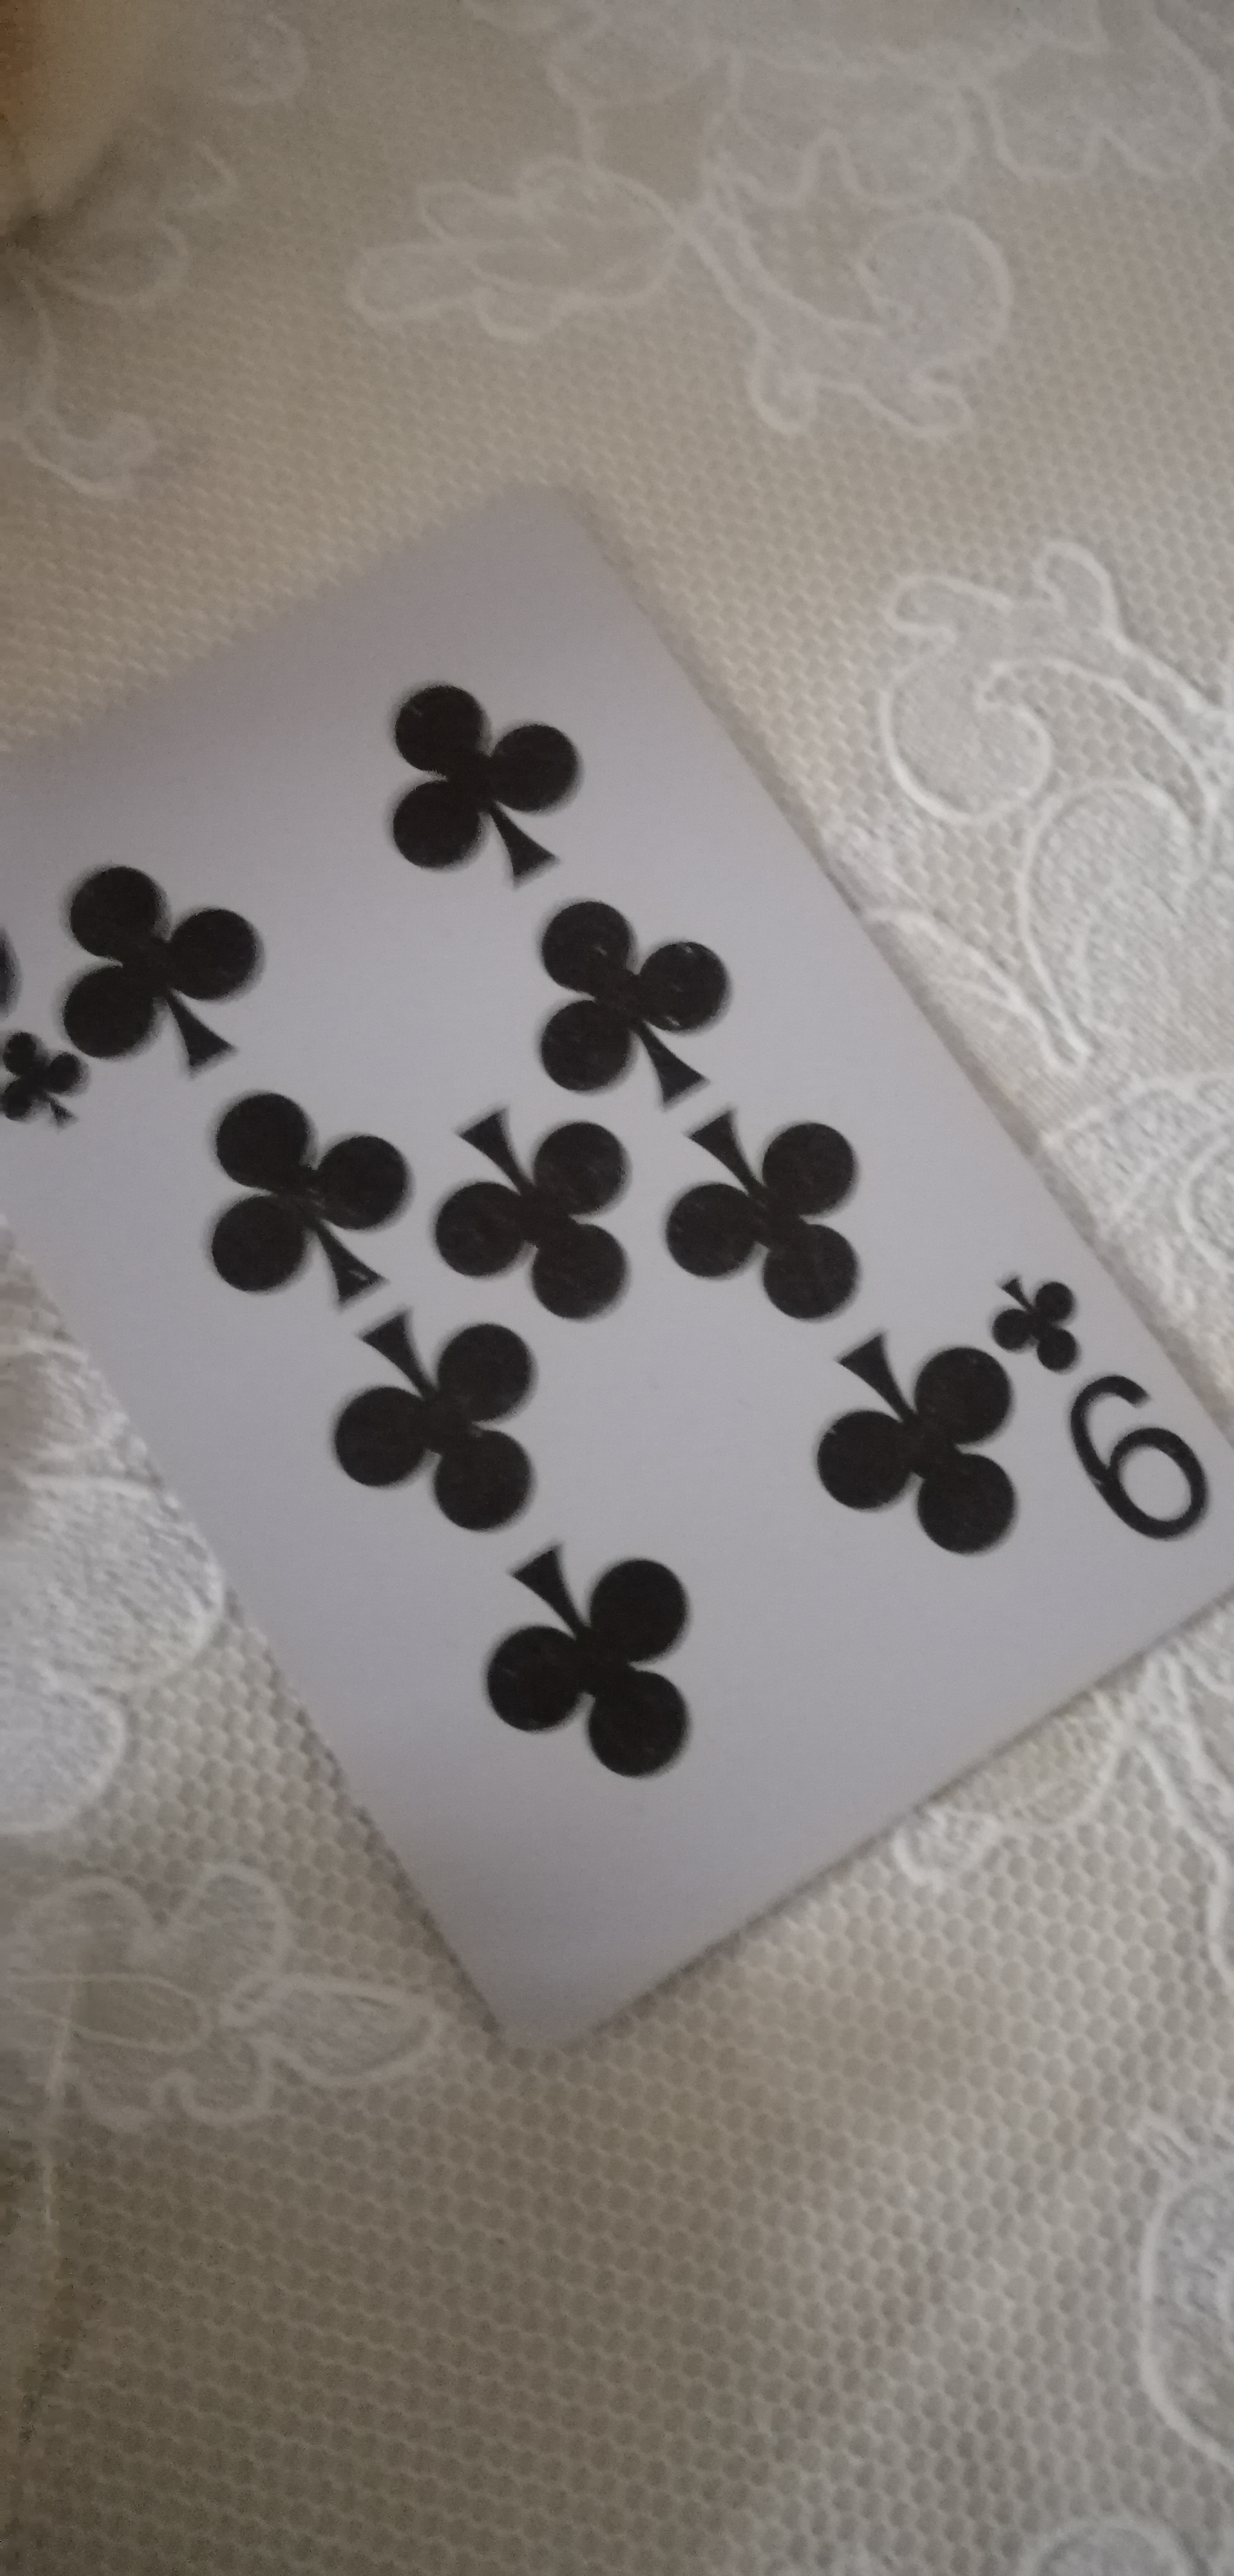nine: (16, 516, 1234, 1939)
